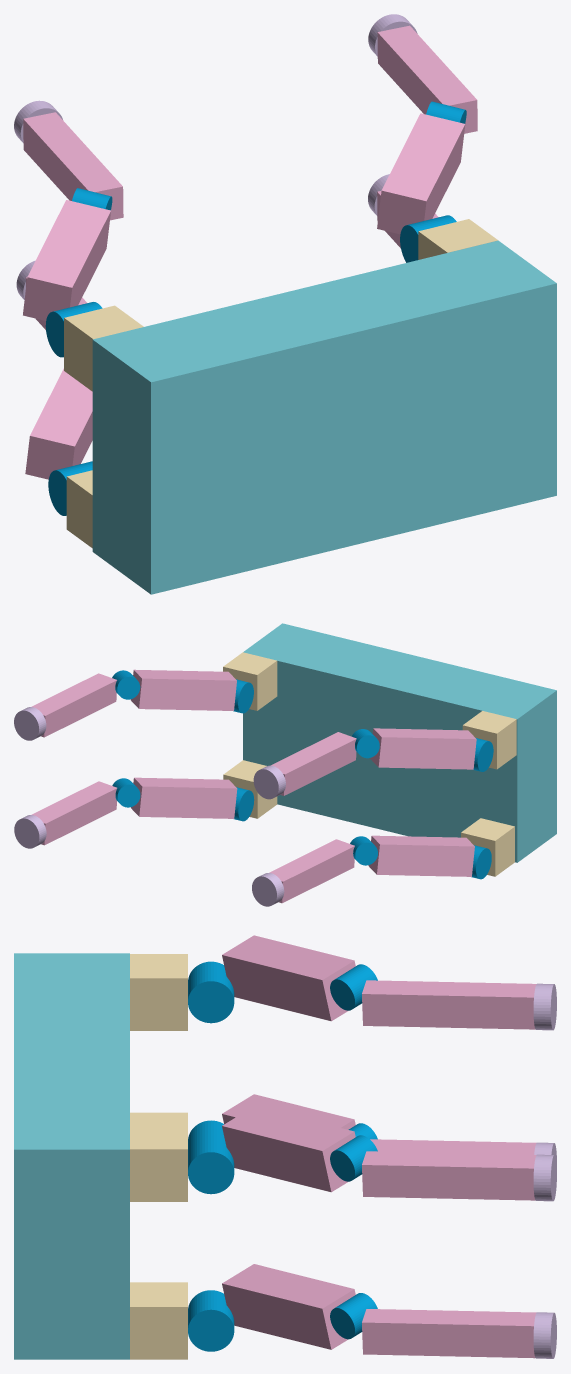
Rendered from tinker.obj.
The picture shows the model from 3 angles, top to bottom: view 1: azimuth 30°, elevation 25°; view 2: azimuth 150°, elevation 25°; view 3: azimuth 270°, elevation 25°; orthographic projection. The views are drawn at different scales.
Parts seen in each view (by area): view 1: group_0_7720667, group_0_15708628, group_0_16311991, group_0_40919, group_0_13877221; view 2: group_0_7720667, group_0_15708628, group_0_16311991, group_0_40919, group_0_13877221; view 3: group_0_15708628, group_0_7720667, group_0_16311991, group_0_40919, group_0_13877221.
Part boxes in pixels (x1,y1,x2,y2): group_0_7720667: (92, 240, 556, 594); group_0_15708628: (23, 25, 477, 479); group_0_16311991: (64, 219, 497, 548); group_0_40919: (45, 101, 466, 515); group_0_13877221: (14, 14, 417, 299); group_0_7720667: (243, 623, 556, 862); group_0_15708628: (31, 669, 476, 903); group_0_16311991: (223, 652, 516, 876); group_0_40919: (112, 670, 493, 879); group_0_13877221: (14, 707, 285, 906); group_0_15708628: (222, 935, 536, 1358); group_0_7720667: (14, 953, 129, 1359); group_0_16311991: (130, 954, 187, 1359); group_0_40919: (188, 961, 377, 1351); group_0_13877221: (533, 983, 556, 1358).
Size of the model in its own units: 105 by 48.24 by 93.65.
